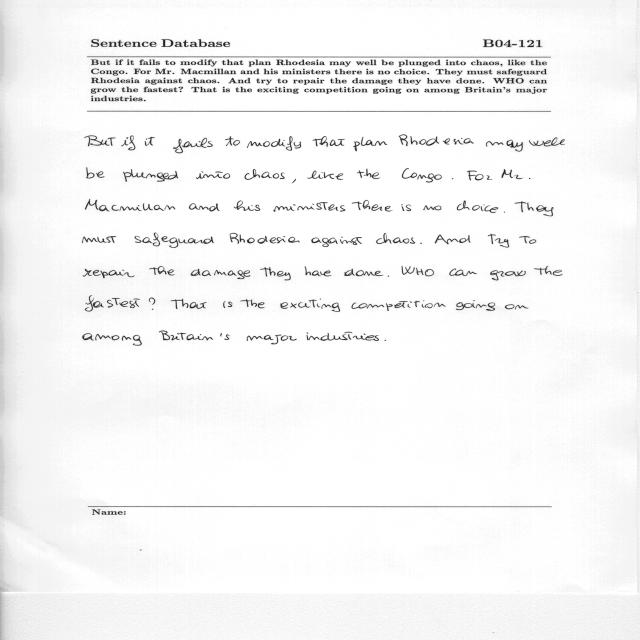word: (134, 233, 214, 248), (86, 199, 176, 212), (352, 300, 446, 311), (85, 296, 140, 312), (280, 298, 340, 312), (399, 135, 474, 146), (247, 136, 301, 151), (83, 333, 142, 346), (230, 233, 299, 244), (274, 202, 346, 212), (123, 169, 178, 182), (306, 332, 379, 341), (159, 331, 230, 340), (173, 138, 213, 153), (191, 269, 250, 279), (515, 201, 554, 216), (402, 168, 442, 182), (311, 237, 362, 247), (247, 335, 297, 345), (457, 201, 498, 213), (354, 137, 388, 151), (83, 269, 135, 278), (244, 169, 285, 180), (352, 200, 393, 211), (486, 140, 523, 152), (376, 233, 415, 244), (456, 300, 495, 311), (260, 267, 291, 280), (490, 270, 526, 281), (312, 136, 345, 147), (171, 299, 207, 309), (435, 235, 470, 245), (85, 136, 116, 147), (401, 266, 434, 276), (529, 138, 565, 147), (308, 171, 343, 180), (488, 234, 509, 248), (502, 169, 531, 179), (234, 200, 260, 211), (534, 266, 562, 276), (345, 269, 384, 276), (196, 171, 230, 179), (305, 266, 332, 276), (467, 171, 492, 181), (189, 204, 220, 212), (83, 236, 117, 243), (149, 267, 175, 276), (357, 169, 380, 179), (241, 299, 265, 308), (121, 136, 135, 151), (87, 168, 105, 179), (449, 269, 477, 276), (225, 136, 240, 146), (519, 236, 536, 244), (505, 305, 529, 310), (423, 206, 442, 211), (145, 137, 155, 146), (149, 298, 155, 310), (401, 204, 411, 211), (223, 301, 232, 308), (292, 179, 296, 183), (420, 243, 422, 244), (452, 178, 453, 179), (504, 212, 505, 213), (388, 276, 389, 277), (385, 340, 386, 341)
